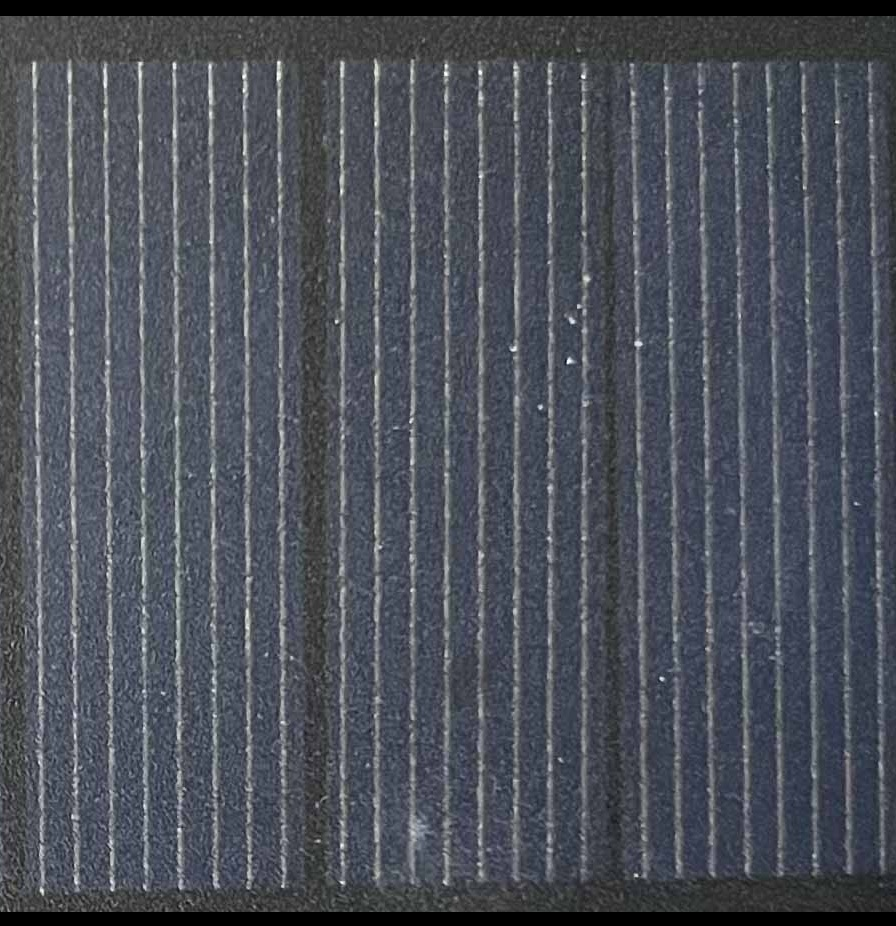Spot: (442, 640, 503, 718)
